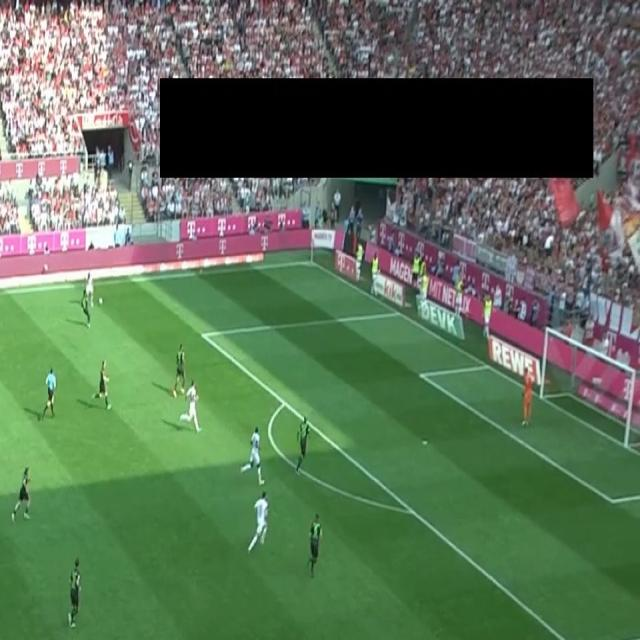ball: (98, 296, 104, 305)
